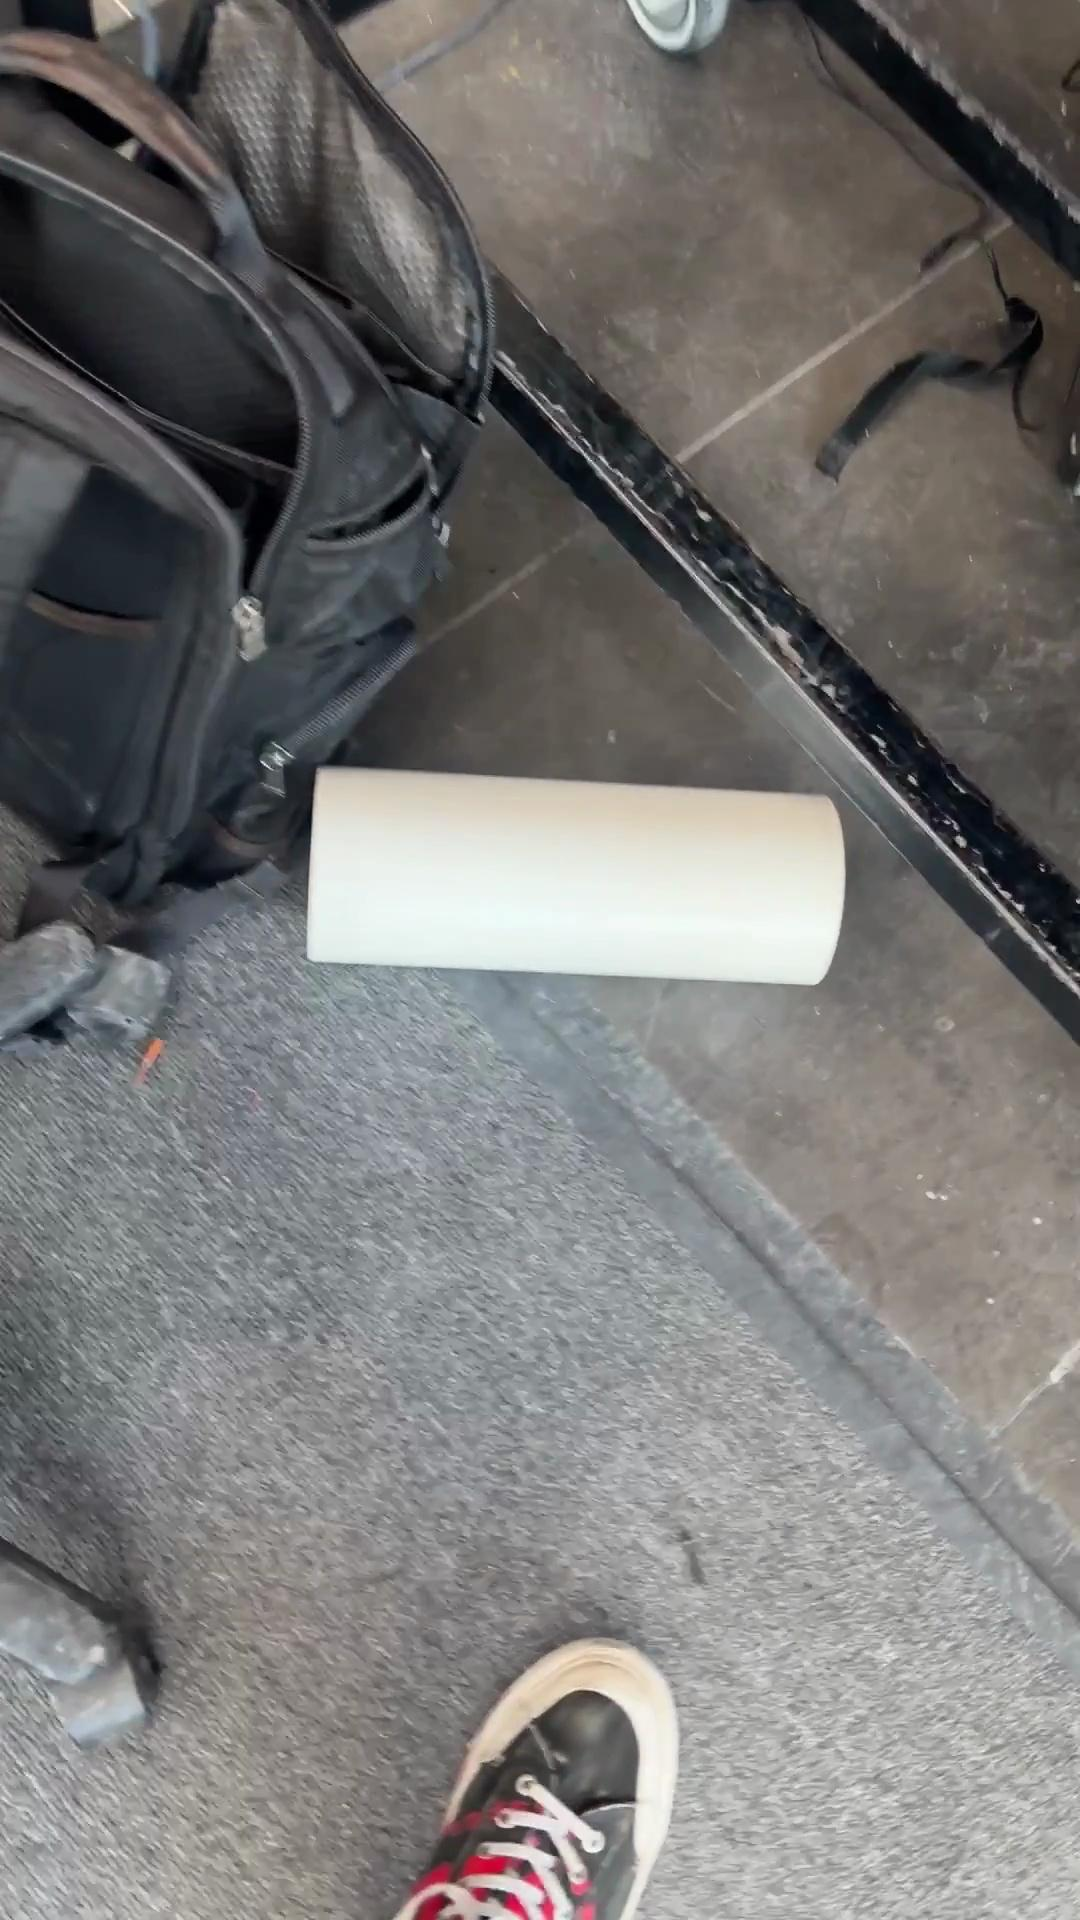CORAL: (302, 761, 847, 988)
